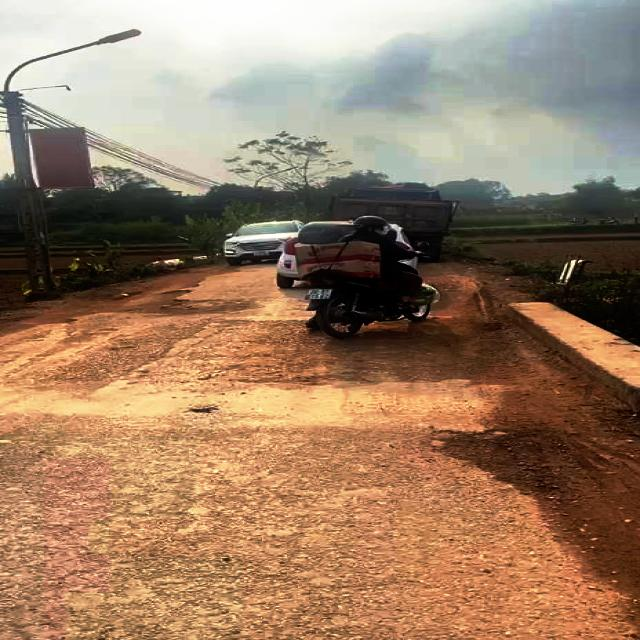pothole: (428, 416, 568, 498), (102, 289, 264, 318)
